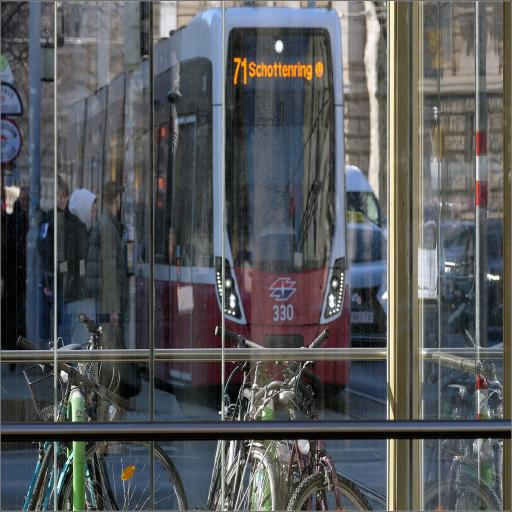Flexity: (120, 8, 352, 392)
